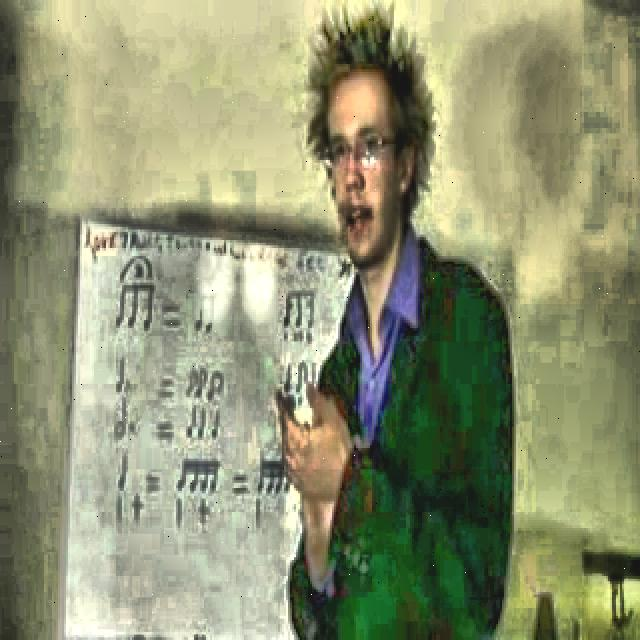F: (274, 5, 518, 637)
